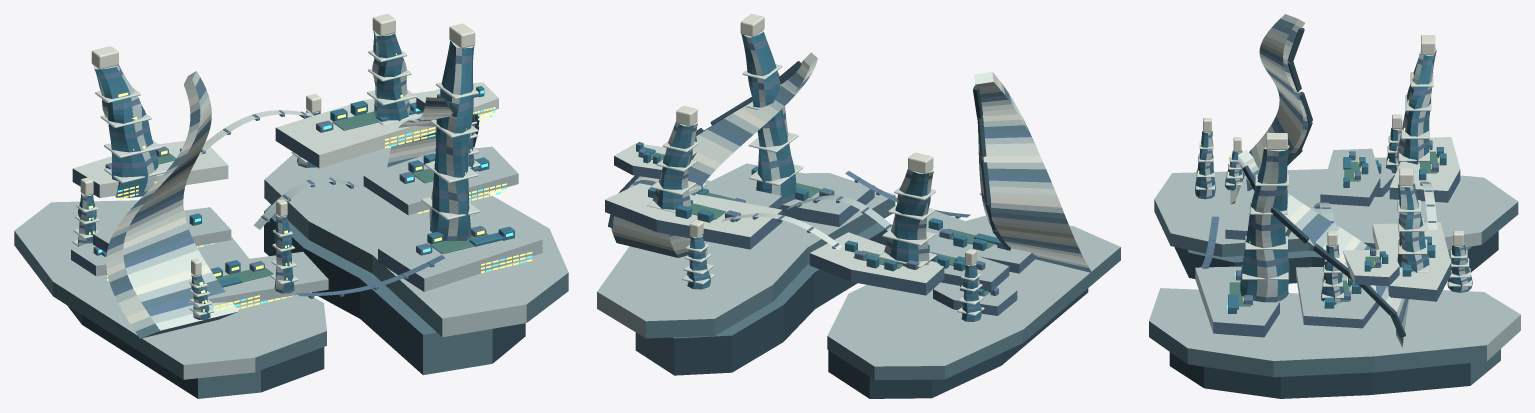
Rendered from G4E7BR_FRACTURED_TIDE_CITADEL_ART_ONLY.glb.
3 renders of one model, left to right at view 1: azimuth 30°, elevation 25°; view 2: azimuth 150°, elevation 25°; view 3: azimuth 270°, elevation 25°, orthographic. The views are drawn at different scales.
Parts seen in each view (by area): view 1: Tectonic EAST / 43m heavy city continent, Tectonic WEST / 25m deep sculpted city land, SKY-SPLIT WEST / ascending 510m jagged ceramic scarp, Shadowed submarine structural strata 1, EAST / needle observatory district, City strata terrace E0, City strata terrace E2, WEST / leaning lighthouse arcology, Shadowed submarine structural strata 0, City strata terrace E1, City strata terrace W0, City strata terrace W2 (+15 smaller); view 2: Tectonic WEST / 25m deep sculpted city land, Tectonic EAST / 43m heavy city continent, SKY-SPLIT WEST / ascending 510m jagged ceramic scarp, Shadowed submarine structural strata 1, SKY-SPLIT EAST / descending twin fracture blade, City strata terrace E2, EAST / needle observatory district, City strata terrace W2, Shadowed submarine structural strata 0, City strata terrace E0, WEST / leaning lighthouse arcology, EAST / split vertical habitat (+10 smaller); view 3: Tectonic EAST / 43m heavy city continent, Tectonic WEST / 25m deep sculpted city land, Shadowed submarine structural strata 1, EAST / needle observatory district, SKY-SPLIT WEST / ascending 510m jagged ceramic scarp, City strata terrace E0, City strata terrace E2, SKY-SPLIT EAST / descending twin fracture blade, City strata terrace E1, City strata terrace W1, WEST / leaning lighthouse arcology, Shadowed submarine structural strata 0 (+14 smaller).
Part boxes in pixels (x1=…): Tectonic EAST / 43m heavy city continent: x1=264, y1=147, x2=568, y2=337; Tectonic WEST / 25m deep sculpted city land: x1=14, y1=200, x2=326, y2=379; SKY-SPLIT WEST / ascending 510m jagged ceramic scarp: x1=106, y1=71, x2=238, y2=338; Shadowed submarine structural strata 1: x1=264, y1=204, x2=525, y2=375; EAST / needle observatory district: x1=429, y1=41, x2=474, y2=240; City strata terrace E0: x1=378, y1=215, x2=542, y2=291; City strata terrace E2: x1=275, y1=90, x2=436, y2=168; WEST / leaning lighthouse arcology: x1=93, y1=65, x2=158, y2=197; Shadowed submarine structural strata 0: x1=67, y1=305, x2=324, y2=398; City strata terrace E1: x1=363, y1=146, x2=518, y2=215; City strata terrace W0: x1=187, y1=252, x2=328, y2=304; City strata terrace W2: x1=72, y1=141, x2=228, y2=197; Tectonic WEST / 25m deep sculpted city land: x1=827, y1=215, x2=1120, y2=379; Tectonic EAST / 43m heavy city continent: x1=597, y1=173, x2=895, y2=338; SKY-SPLIT WEST / ascending 510m jagged ceramic scarp: x1=974, y1=72, x2=1091, y2=272; Shadowed submarine structural strata 1: x1=635, y1=222, x2=888, y2=375; SKY-SPLIT EAST / descending twin fracture blade: x1=611, y1=52, x2=817, y2=257; City strata terrace E2: x1=605, y1=183, x2=782, y2=249; EAST / needle observatory district: x1=741, y1=30, x2=796, y2=204; City strata terrace W2: x1=809, y1=232, x2=944, y2=295; Shadowed submarine structural strata 0: x1=828, y1=288, x2=1088, y2=398; City strata terrace E0: x1=711, y1=163, x2=874, y2=226; WEST / leaning lighthouse arcology: x1=884, y1=169, x2=933, y2=266; EAST / split vertical habitat: x1=652, y1=121, x2=697, y2=209; Tectonic EAST / 43m heavy city continent: x1=1149, y1=288, x2=1520, y2=377; Tectonic WEST / 25m deep sculpted city land: x1=1154, y1=169, x2=1518, y2=257; Shadowed submarine structural strata 1: x1=1169, y1=349, x2=1500, y2=398; EAST / needle observatory district: x1=1240, y1=145, x2=1289, y2=302; SKY-SPLIT WEST / ascending 510m jagged ceramic scarp: x1=1230, y1=14, x2=1308, y2=204; City strata terrace E0: x1=1195, y1=266, x2=1279, y2=337; City strata terrace E2: x1=1372, y1=222, x2=1451, y2=301; SKY-SPLIT EAST / descending twin fracture blade: x1=1238, y1=150, x2=1408, y2=347; City strata terrace E1: x1=1296, y1=267, x2=1379, y2=328; City strata terrace W1: x1=1320, y1=148, x2=1380, y2=206; WEST / leaning lighthouse arcology: x1=1397, y1=48, x2=1436, y2=165; Shadowed submarine structural strata 0: x1=1174, y1=231, x2=1498, y2=283.
Bounding box in the file's own units: 1062 × 675 × 898.
